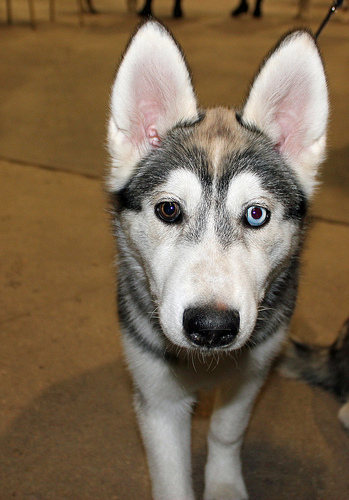dog: (98, 17, 336, 498)
